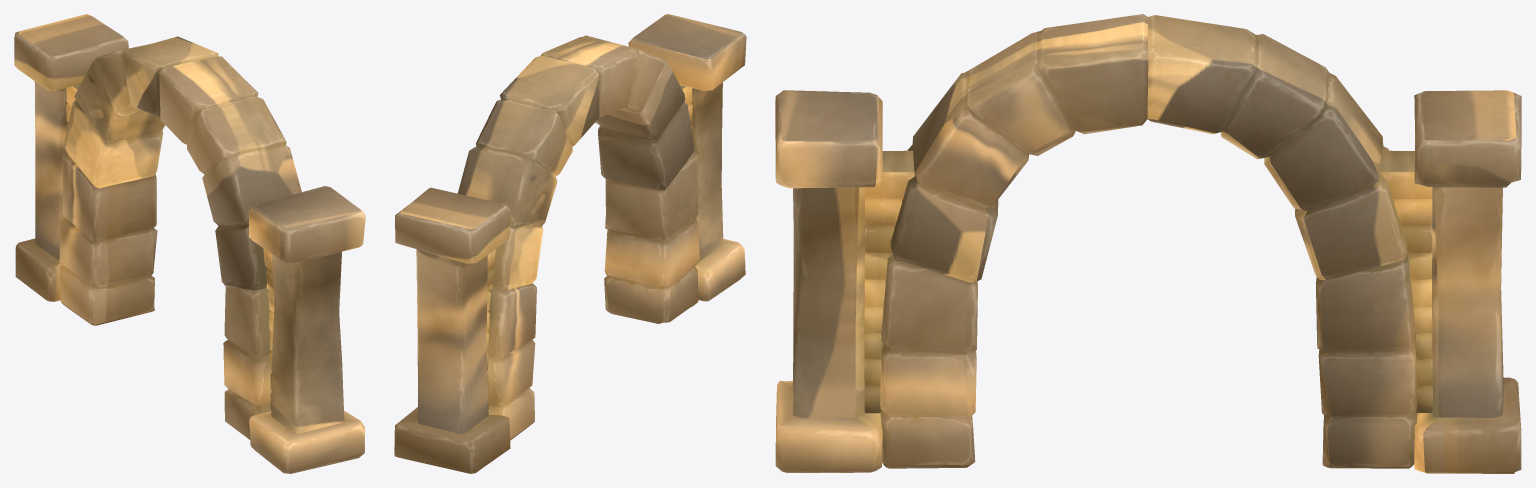
Rendered from SM_Stylized_Arch.fbx.
3 views of the same model, side by side, from view 1: azimuth 30°, elevation 25°; view 2: azimuth 150°, elevation 25°; view 3: azimuth 270°, elevation 25° (orthographic). The views are drawn at different scales.
Parts seen in each view (by area): view 1: SM_Stylized_Arch_LOD0; view 2: SM_Stylized_Arch_LOD0; view 3: SM_Stylized_Arch_LOD0.
Part boxes in pixels (x1,y1,x2,y2): SM_Stylized_Arch_LOD0: (14,14,365,473); SM_Stylized_Arch_LOD0: (394,14,746,473); SM_Stylized_Arch_LOD0: (775,14,1521,473).
Bounding box in the file's own units: 115 × 660 × 407.
